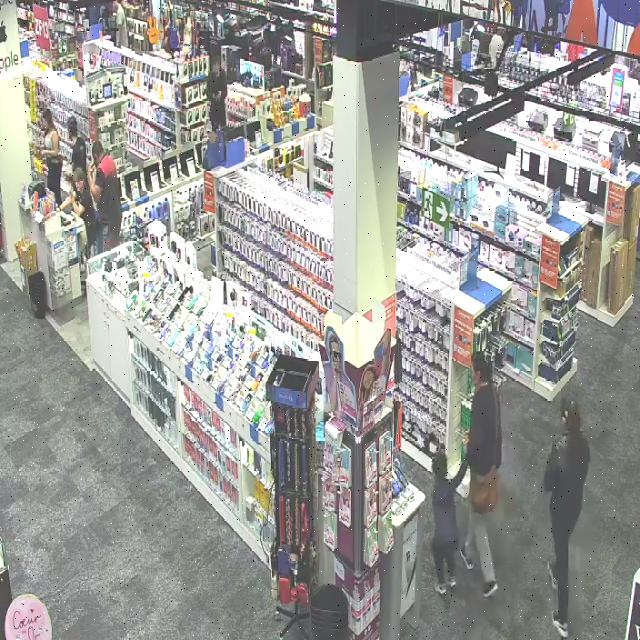bags: (470, 467, 497, 513)
person: (544, 394, 589, 638), (460, 354, 501, 597), (432, 451, 467, 593), (88, 142, 121, 252), (61, 167, 97, 250)
